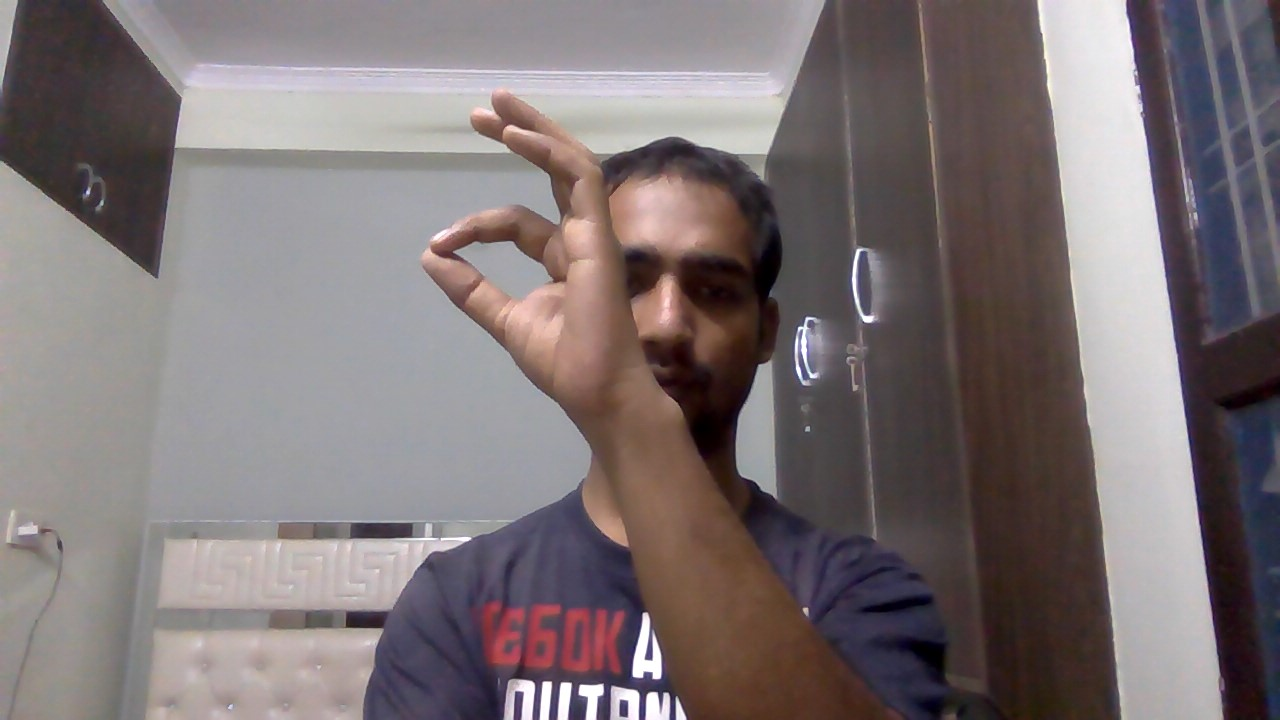Copy: (408, 79, 659, 429)
